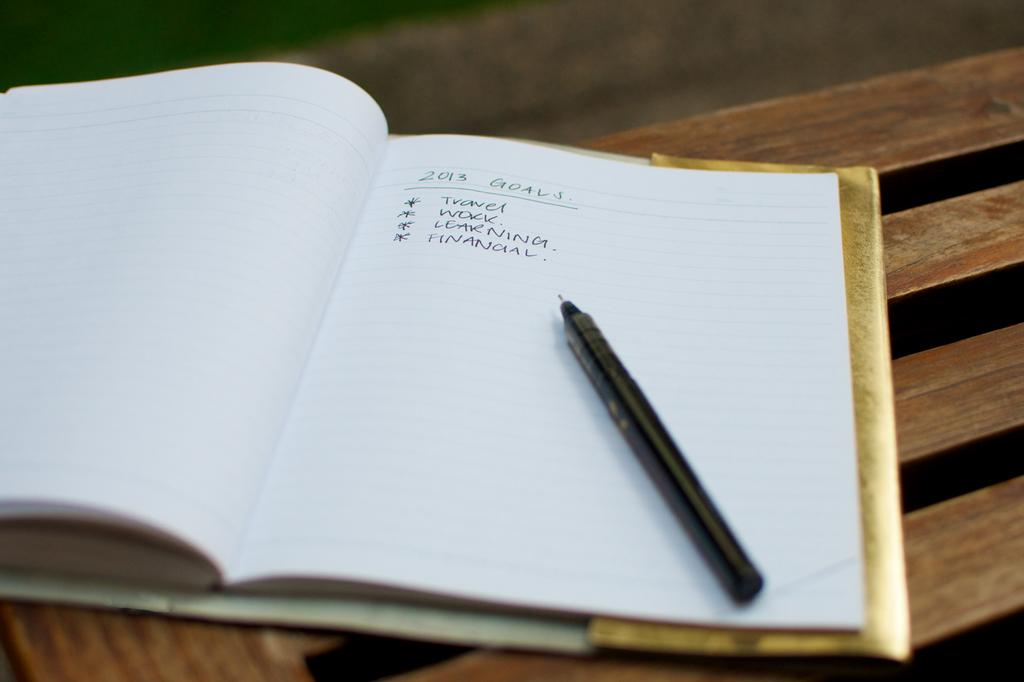pen: (552, 293, 766, 603)
